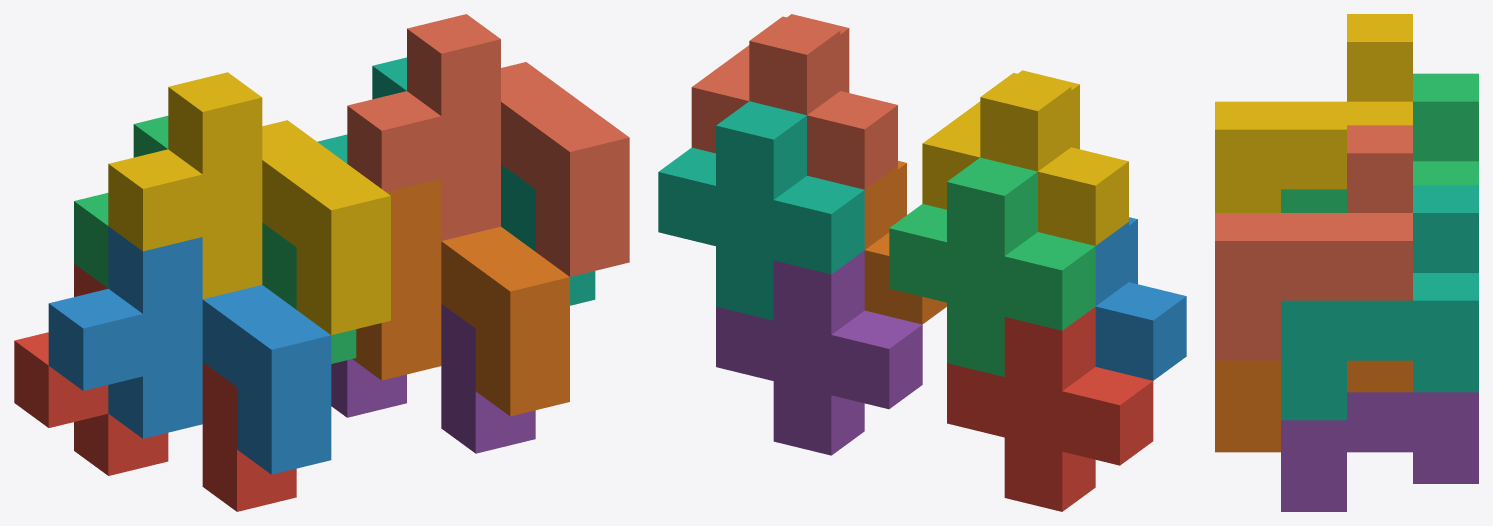
File: tiling.obj
3 renders of one model, left to right at view 1: azimuth 30°, elevation 25°; view 2: azimuth 150°, elevation 25°; view 3: azimuth 270°, elevation 25°, orthographic. The views are drawn at different scales.
Parts seen in each view (by area): view 1: copy_1_domain_4, copy_1_domain_8, copy_1_domain_2, copy_1_domain_6, copy_1_domain_1, copy_1_domain_5, copy_1_domain_3, copy_1_domain_7; view 2: copy_1_domain_3, copy_1_domain_7, copy_1_domain_5, copy_1_domain_1, copy_1_domain_8, copy_1_domain_4, copy_1_domain_2, copy_1_domain_6; view 3: copy_1_domain_8, copy_1_domain_7, copy_1_domain_4, copy_1_domain_5, copy_1_domain_3, copy_1_domain_6.
Part boxes in pixels (bbox=[...]): copy_1_domain_4: bbox=[108, 72, 390, 335]; copy_1_domain_8: bbox=[347, 14, 629, 276]; copy_1_domain_2: bbox=[48, 226, 331, 474]; copy_1_domain_6: bbox=[352, 179, 569, 416]; copy_1_domain_1: bbox=[14, 264, 296, 511]; copy_1_domain_5: bbox=[331, 304, 535, 453]; copy_1_domain_3: bbox=[74, 115, 356, 363]; copy_1_domain_7: bbox=[317, 57, 595, 305]; copy_1_domain_3: bbox=[889, 157, 1095, 376]; copy_1_domain_7: bbox=[658, 101, 864, 320]; copy_1_domain_5: bbox=[716, 250, 922, 455]; copy_1_domain_1: bbox=[947, 306, 1153, 511]; copy_1_domain_8: bbox=[691, 14, 897, 189]; copy_1_domain_4: bbox=[922, 70, 1128, 245]; copy_1_domain_2: bbox=[1095, 217, 1186, 380]; copy_1_domain_6: bbox=[864, 161, 946, 324]; copy_1_domain_8: bbox=[1215, 125, 1412, 360]; copy_1_domain_7: bbox=[1281, 185, 1478, 420]; copy_1_domain_4: bbox=[1215, 14, 1412, 212]; copy_1_domain_5: bbox=[1281, 392, 1478, 511]; copy_1_domain_3: bbox=[1281, 73, 1478, 212]; copy_1_domain_6: bbox=[1215, 360, 1412, 452].
Size of the model in its own units: 8 by 6 by 4.
